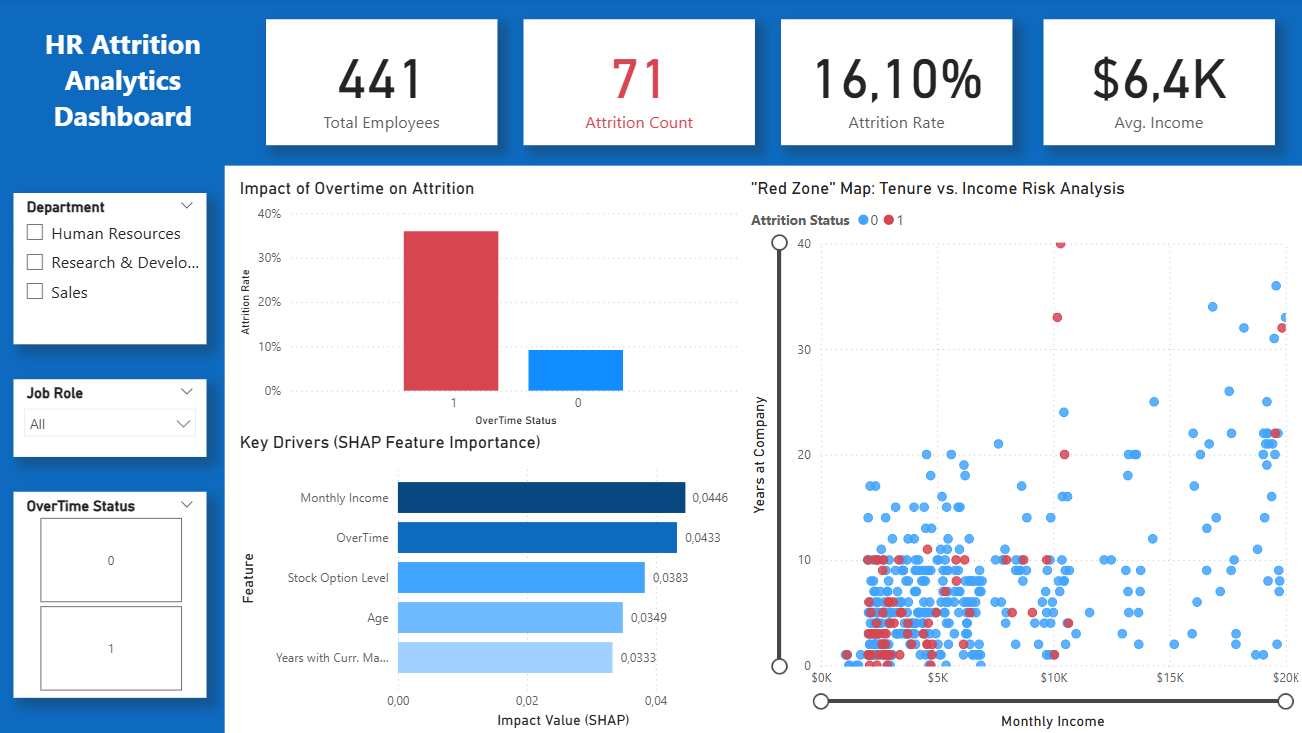

The dashboard page shown, as its layout file describes it:
{"tool":"powerbi","page":{"name":"Page 1","canvas":[1280,720],"ordinal":0},"visuals":[{"type":"shape","box":[0,0,223.7,719.8],"z":0},{"type":"shape","box":[206.2,0,1073.8,164.4],"z":1000},{"type":"textbox","box":[7.8,20.4,233.4,123.5],"z":2000},{"type":"slicer","fields":{"Values":["ibm_attrition_for_powerbi.Department"]},"box":[16.5,190.6,188.7,147.8],"z":3000},{"type":"slicer","fields":{"Values":["ibm_attrition_for_powerbi.JobRole"]},"box":[16.5,372.5,188.7,75.9],"z":4000},{"type":"slicer","fields":{"Values":["ibm_attrition_for_powerbi.OverTime"]},"box":[16.5,483.4,188.7,201.3],"z":5000},{"type":"card","fields":{"Values":["ibm_attrition_for_powerbi.Headcount"]},"box":[264.6,20.4,226.6,123.5],"z":6000},{"type":"card","fields":{"Values":["ibm_attrition_for_powerbi.Kilépők Száma"]},"box":[516.5,20.4,226.6,123.5],"z":7000},{"type":"card","fields":{"Values":["ibm_attrition_for_powerbi.Fluktuációs Ráta"]},"box":[768.4,20.4,226.6,123.5],"z":8000},{"type":"card","fields":{"Values":["Avg(ibm_attrition_for_powerbi.MonthlyIncome)"]},"box":[1025.2,20.4,226.6,123.5],"z":9000},{"type":"scatterChart","title":"\"Red Zone\" Map: Tenure vs. Income Risk Analysis","fields":{"X":["Sum(ibm_attrition_for_powerbi.Átlagjövedelem)"],"Y":["ibm_attrition_for_powerbi.YearsAtCompany"],"Series":["ibm_attrition_for_powerbi.Attrition"]},"box":[733.4,176,546.6,543.7],"z":10000},{"type":"clusteredColumnChart","title":"Impact of Overtime on Attrition","fields":{"Y":["ibm_attrition_for_powerbi.Fluktuációs Ráta"],"Category":["ibm_attrition_for_powerbi.OverTime"]},"box":[233.4,176,499.9,248],"z":11000},{"type":"clusteredBarChart","title":"Key Drivers (SHAP Feature Importance)","fields":{"Category":["Table.Tényező"],"Y":["Sum(Table.Fontosság)"]},"box":[233.4,424.1,499.9,295.7],"z":12000}]}

Visuals, with their boxes in screenshot pixels (x1, y1, x2, y2), scaled from the page's 1280x720 canvas onto the 1302x733 screenshot:
shape: 0, 0, 228, 732
shape: 210, 0, 1301, 167
textbox: 8, 21, 245, 146
slicer - ibm_attrition_for_powerbi.Department: 17, 194, 209, 345
slicer - ibm_attrition_for_powerbi.JobRole: 17, 379, 209, 456
slicer - ibm_attrition_for_powerbi.OverTime: 17, 492, 209, 697
card - ibm_attrition_for_powerbi.Headcount: 269, 21, 500, 146
card - ibm_attrition_for_powerbi.Kilépők Száma: 525, 21, 756, 146
card - ibm_attrition_for_powerbi.Fluktuációs Ráta: 782, 21, 1012, 146
card - Avg(ibm_attrition_for_powerbi.MonthlyIncome): 1043, 21, 1273, 146
""Red Zone" Map: Tenure vs. Income Risk Analysis" scatterChart: 746, 179, 1301, 732
"Impact of Overtime on Attrition" clusteredColumnChart: 237, 179, 746, 432
"Key Drivers (SHAP Feature Importance)" clusteredBarChart: 237, 432, 746, 732
